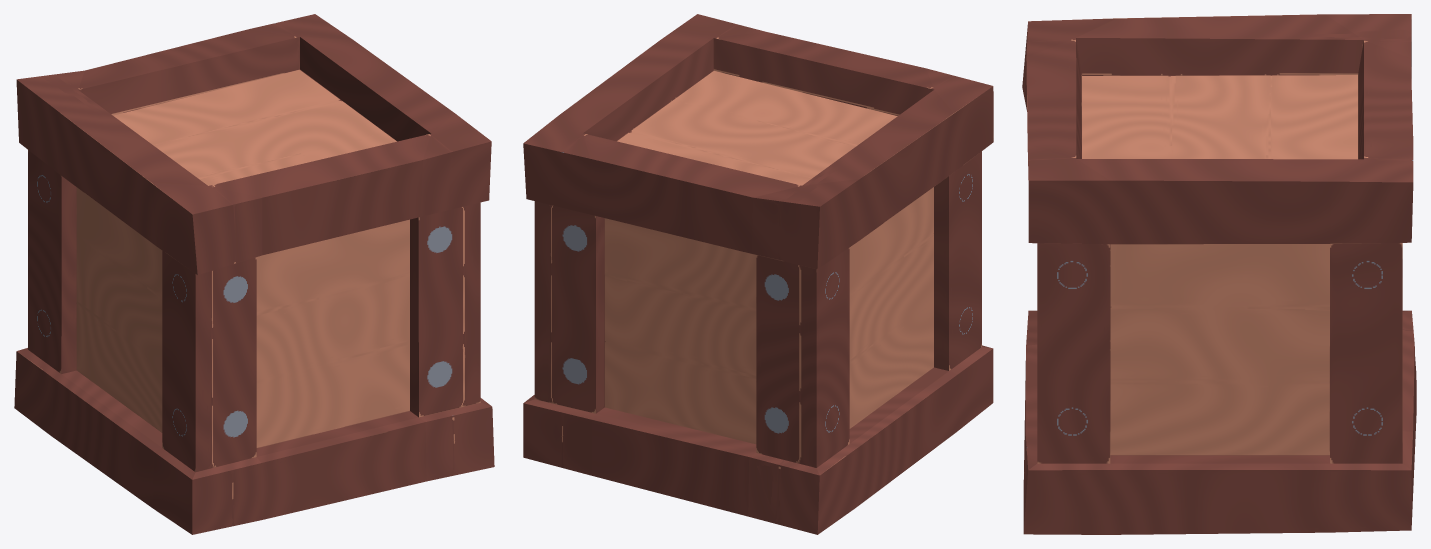
Rendered from Caixa_2_upd.fbx.
3 views of the same model, side by side, from view 1: azimuth 30°, elevation 25°; view 2: azimuth 150°, elevation 25°; view 3: azimuth 270°, elevation 25° (orthographic). The views are drawn at different scales.
Visible parts, largest first — view 1: Caixa 2.L; view 2: Caixa 2.L; view 3: Caixa 2.L.
Boxes of the visible parts, x1,y1,x2,y2 form: Caixa 2.L: [14, 14, 494, 534]; Caixa 2.L: [523, 14, 993, 534]; Caixa 2.L: [1022, 14, 1416, 534].
Bounding box in the file's own units: 146 × 153 × 152.
